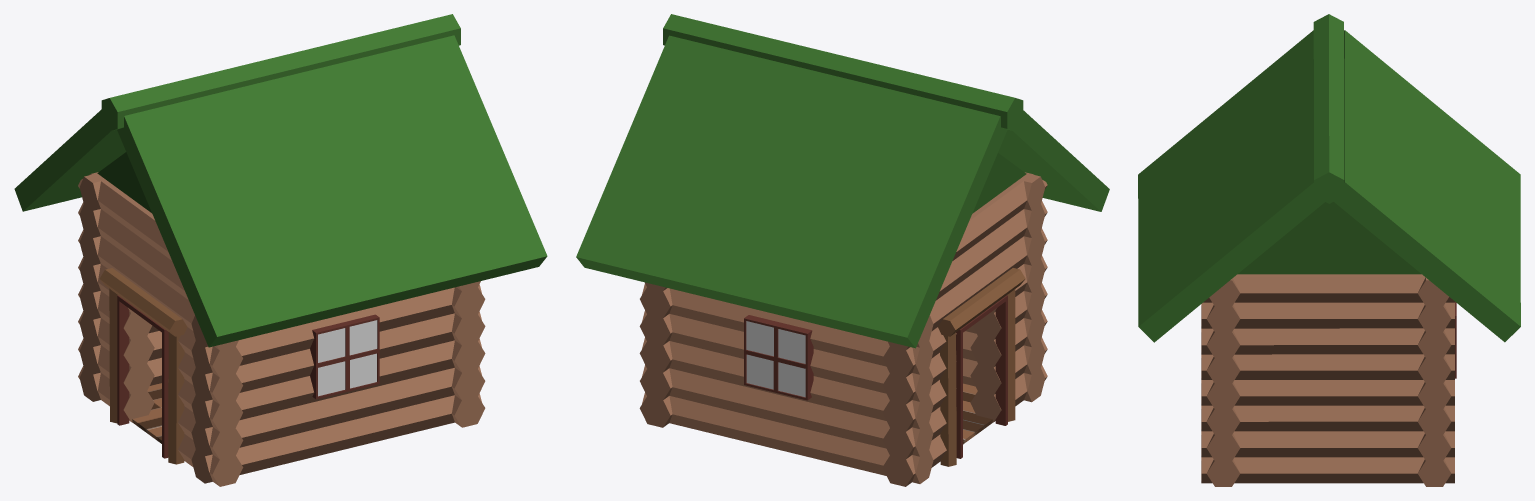
Rendered from LOG_CABIN.fbx.
3 renders of one model, left to right at view 1: azimuth 30°, elevation 25°; view 2: azimuth 150°, elevation 25°; view 3: azimuth 270°, elevation 25°, orthographic. The views are drawn at different scales.
Visible parts, largest first — view 1: Roof Right, Wall Right, Wall Front, Roof Peak, Roof Left, Window Right_out, Wall Left, Front Wall, Door Frame, Log, Log.002, Roof Front (+2 smaller); view 2: Roof Left, Wall Left, Wall Front, Roof Peak, Roof Right, Window Left_out, Wall Right, Front Wall, Door Frame, Log, Log.001, Roof Front (+2 smaller); view 3: Front Wall, Roof Left, Roof Right, Roof Back, Roof Peak, Wall Left, Wall Right.
Boxes of the visible parts, box(x1,y1,x2,y2) form: Roof Right: box(117, 35, 547, 347); Wall Right: box(191, 284, 481, 483); Wall Front: box(78, 172, 243, 486); Roof Peak: box(101, 14, 460, 131); Roof Left: box(14, 109, 125, 211); Window Right_out: box(310, 314, 379, 399); Wall Left: box(79, 173, 161, 401); Front Wall: box(452, 281, 485, 427); Door Frame: box(117, 295, 168, 458); Log: box(99, 268, 187, 336); Log.002: box(168, 332, 184, 464); Roof Front: box(97, 152, 151, 212); Roof Left: box(576, 35, 1007, 348); Wall Left: box(642, 283, 933, 483); Wall Front: box(882, 172, 1047, 486); Roof Peak: box(663, 14, 1023, 131); Roof Right: box(998, 110, 1109, 211); Window Left_out: box(744, 315, 813, 400); Wall Right: box(963, 174, 1045, 402); Front Wall: box(639, 282, 672, 427); Door Frame: box(956, 295, 1007, 458); Log: box(938, 268, 1025, 336); Log.001: box(940, 332, 956, 466); Roof Front: box(972, 153, 1026, 213); Front Wall: box(1201, 274, 1454, 483); Roof Left: box(1334, 30, 1520, 342); Roof Right: box(1138, 30, 1324, 342); Roof Back: box(1238, 202, 1421, 274); Roof Peak: box(1313, 14, 1344, 203); Wall Left: box(1417, 277, 1451, 486); Wall Right: box(1206, 278, 1240, 486).
Size of the model in its own units: 0.8383 by 0.8221 by 0.8567.
Materials: 7 (1 with a texture image).
